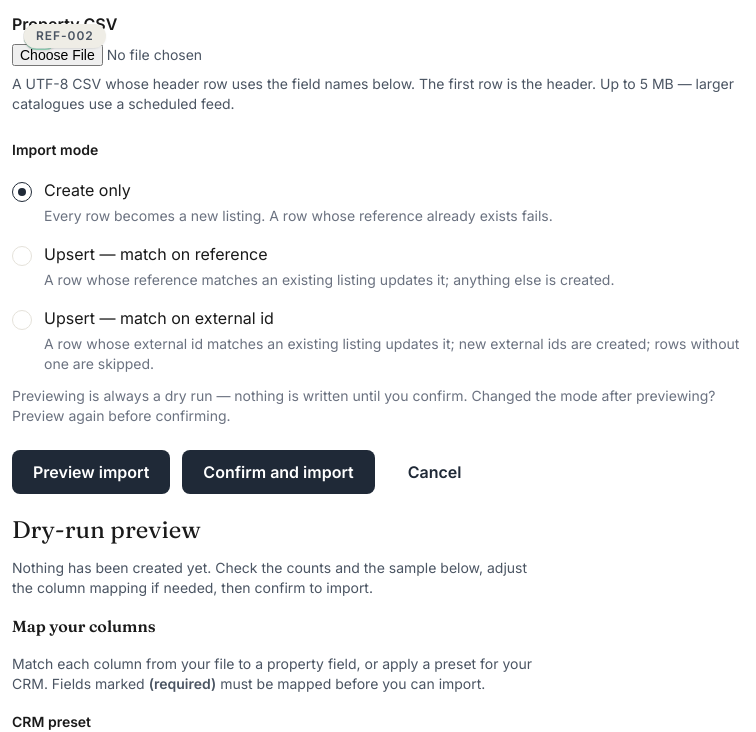
Test case: PropertyImportForm › cancels the preview and returns to the upload step
What coordinates should you click on to do the following:
click the button "Cancel"
I would click on:
 (435, 472)
Its box is [387,450,482,494].
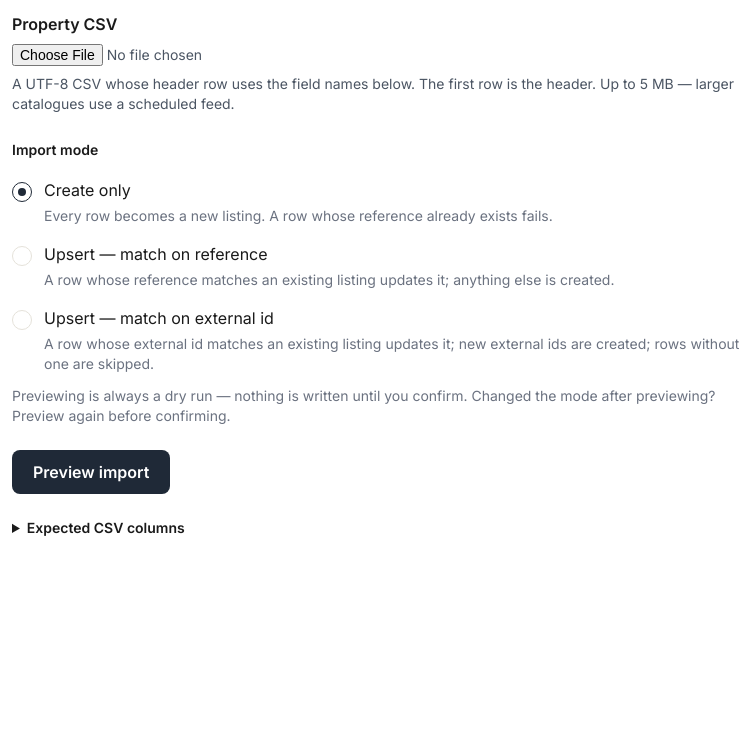
Expected: the button "Preview import" is shown, [12,450,170,494]
Expected: the button "Confirm and import" is gone
